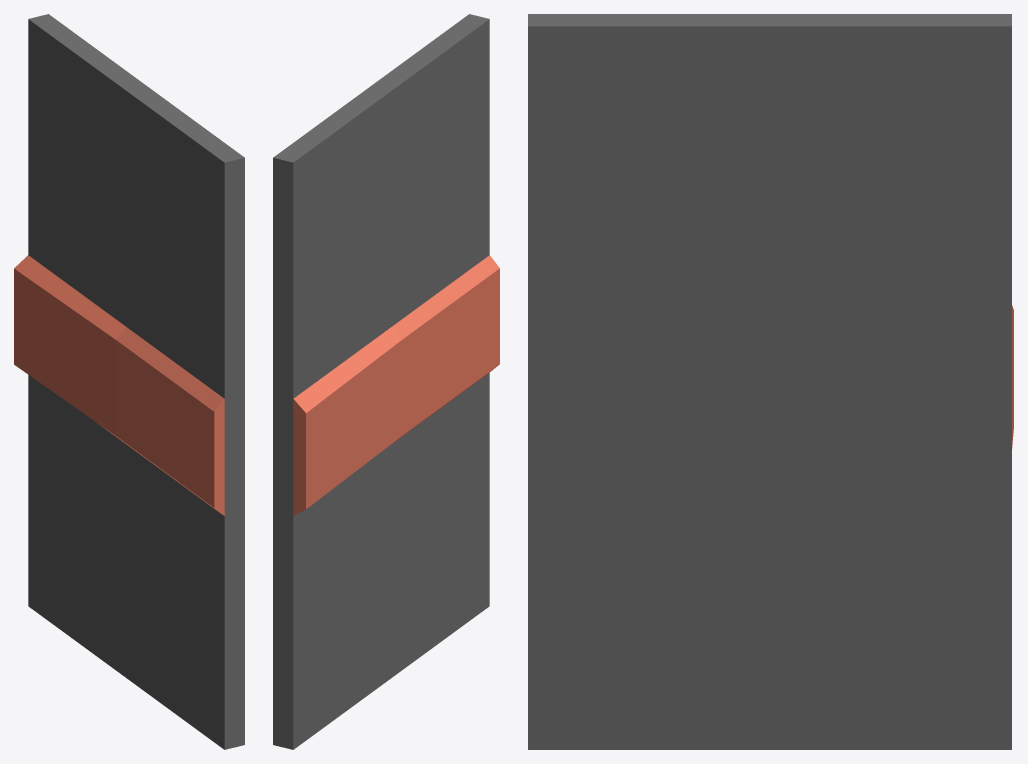
The model's file is ExWall.FBX.
3 views of the same model, side by side, from view 1: azimuth 30°, elevation 25°; view 2: azimuth 150°, elevation 25°; view 3: azimuth 270°, elevation 25° (orthographic). The views are drawn at different scales.
Visible parts, largest first — view 1: ExWall; view 2: ExWall; view 3: ExWall.
Boxes of the visible parts, x1,y1,x2,y2 form: ExWall: (14,14,244,749); ExWall: (273,14,499,749); ExWall: (528,14,1013,749).
Bounding box in the file's own units: 2.66 × 44 × 26.77.
